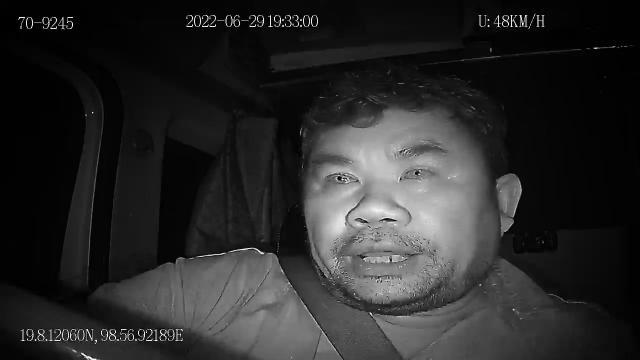SafeDriving: (314, 157, 370, 194), (394, 152, 446, 188)
Seatbelt: (272, 252, 406, 360)
